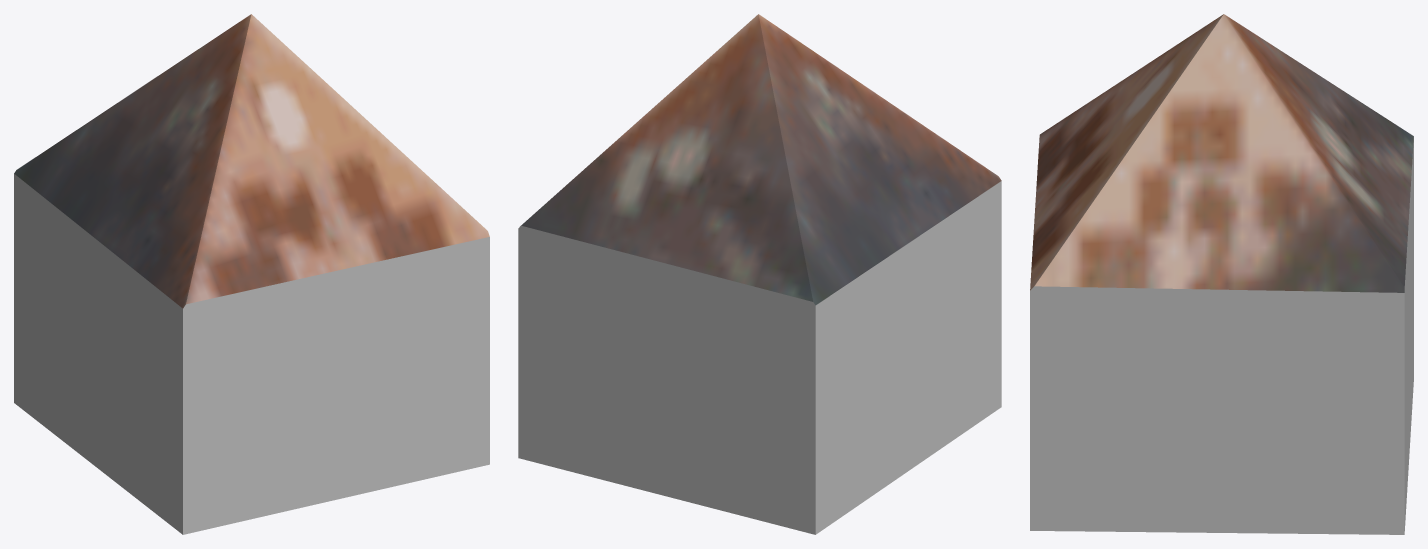
Rendered from DEBW_0010007Txf1.gltf.
3 views of the same model, side by side, from view 1: azimuth 30°, elevation 25°; view 2: azimuth 150°, elevation 25°; view 3: azimuth 270°, elevation 25° (orthographic). The views are drawn at different scales.
Visible parts, largest first — view 1: Z_UP; view 2: Z_UP; view 3: Z_UP.
Boxes of the visible parts, box(x1,y1,x2,y2) form: Z_UP: box(14, 14, 489, 534); Z_UP: box(518, 14, 1001, 534); Z_UP: box(1030, 14, 1413, 534).
Bounding box in the file's own units: 10.11 × 13.05 × 10.28.
Materials: 2 (1 with a texture image).
